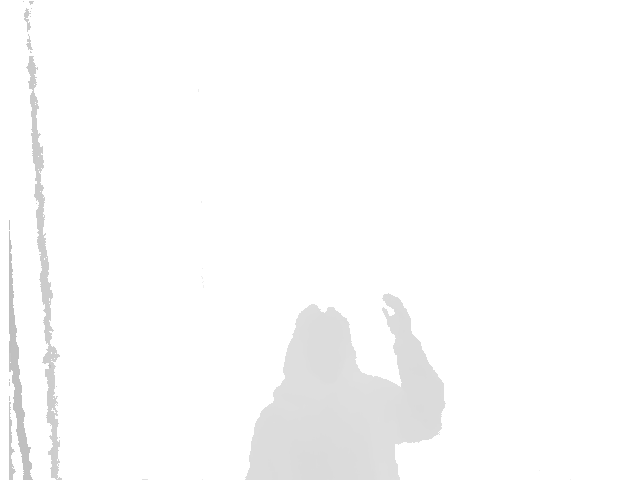hand: (376, 291, 416, 350)
head: (280, 304, 361, 387)
person: (244, 293, 446, 480)
